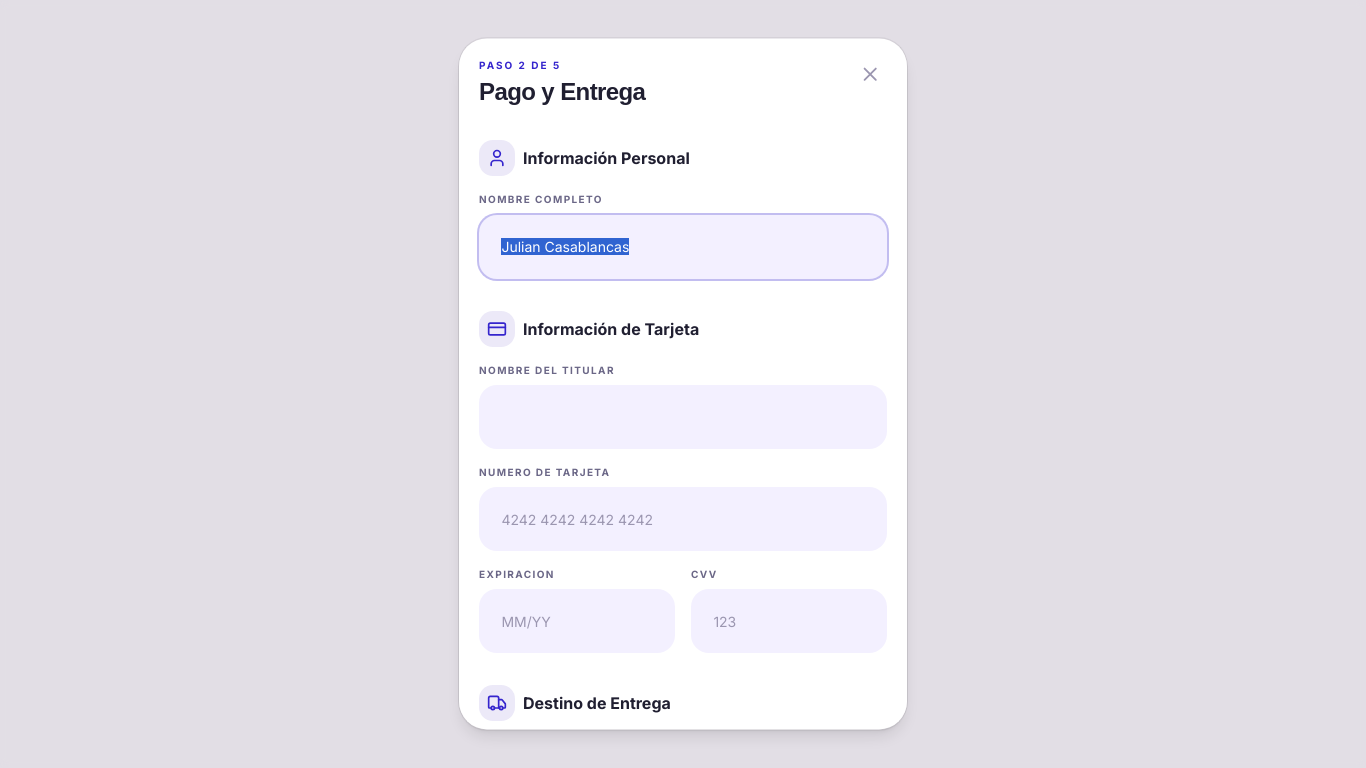
Test: BillingInfoModal › formats expiry with slash
Type "1228" into the field labelled "EXPIRACION" at coordinates (577, 622), box [479,590,675,654]
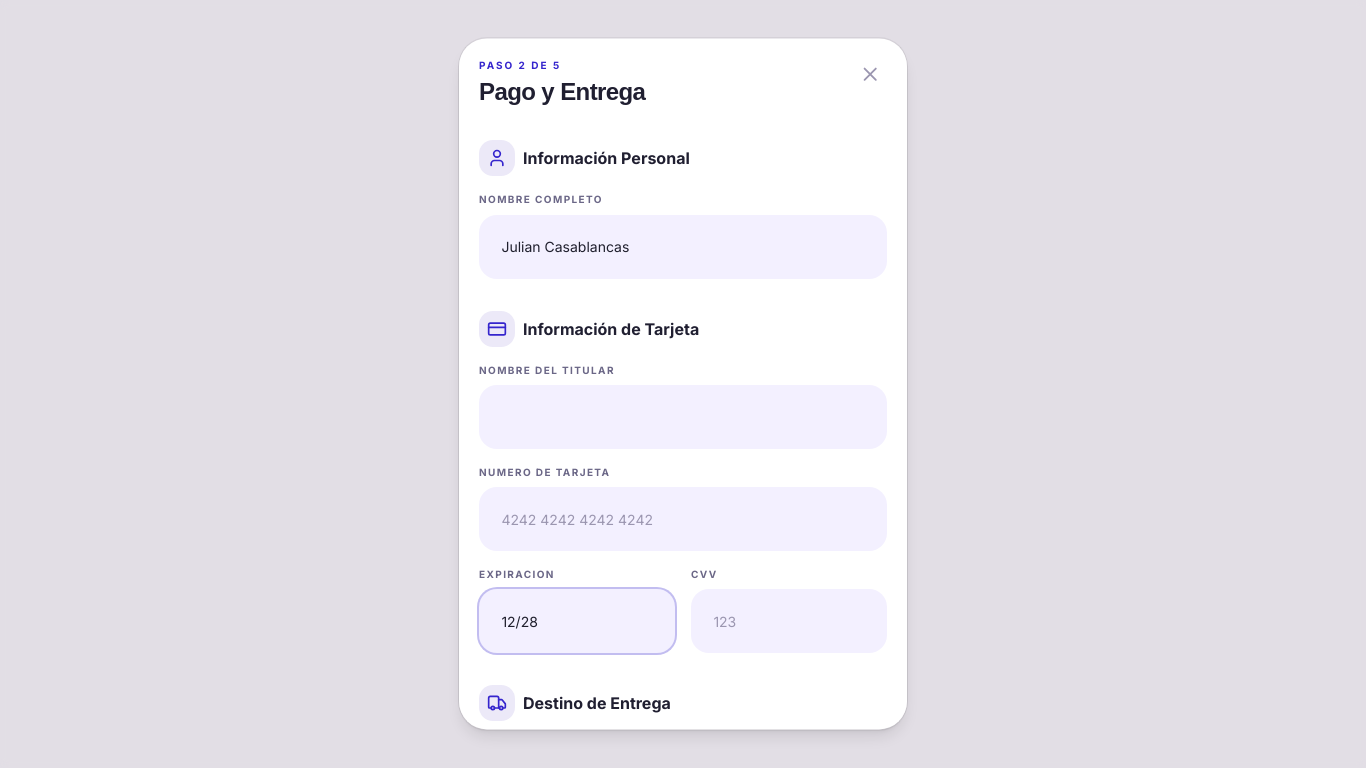
Expected: the field labelled "EXPIRACION" holds "12/28", [479,590,675,654]
